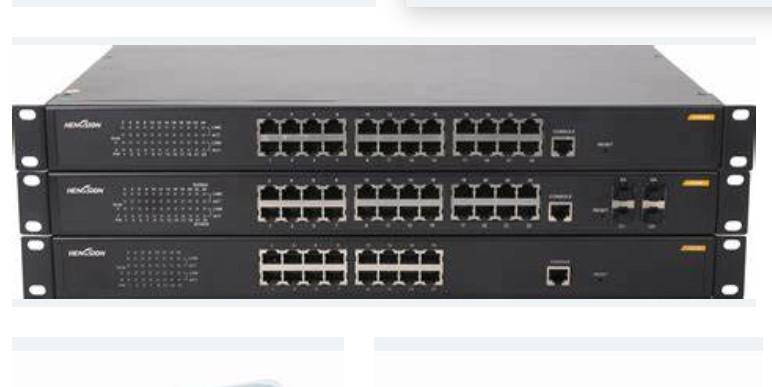NetworkSwitch: (12, 46, 757, 306)
